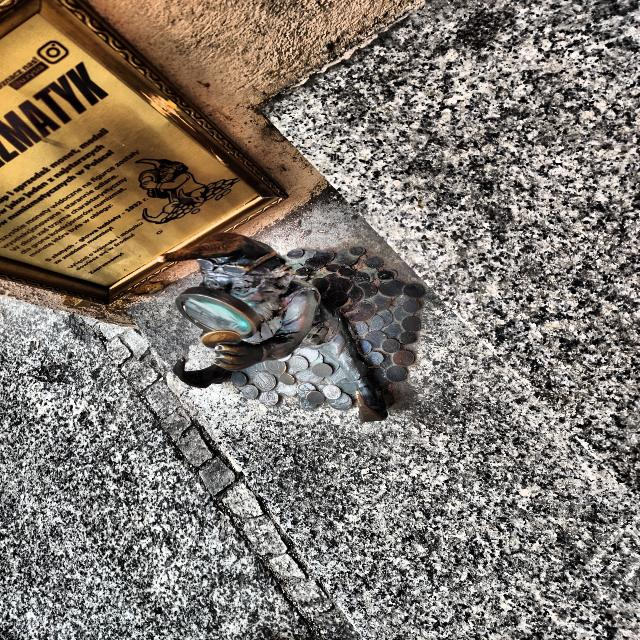Numizmatyk: (160, 232, 425, 421)
